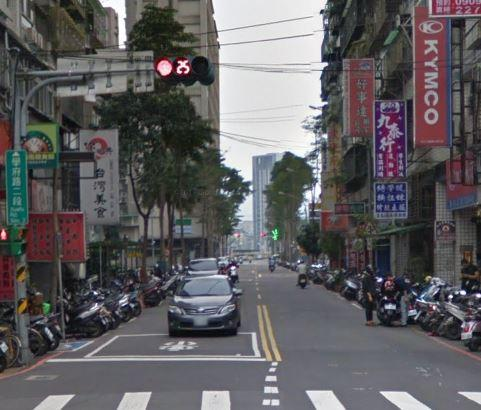red_traffic_light: (153, 55, 210, 77)
